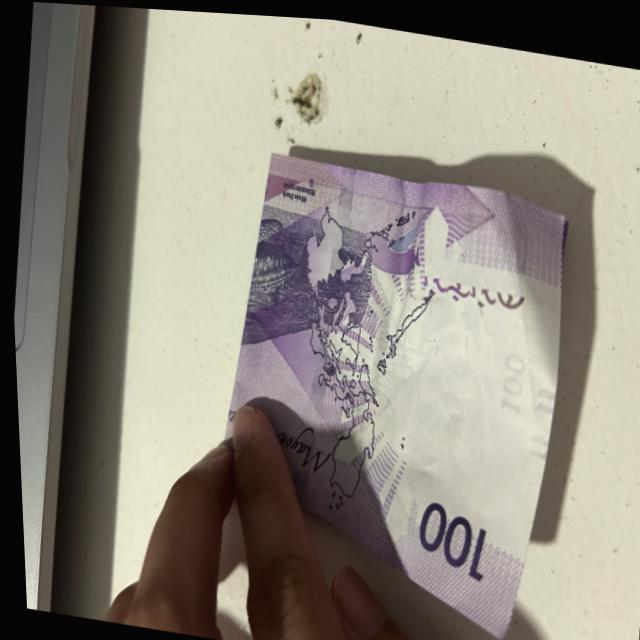100_whale: (241, 212, 313, 313)
100_whale_watermark: (356, 216, 421, 275)
value_watermark: (491, 342, 526, 406)
